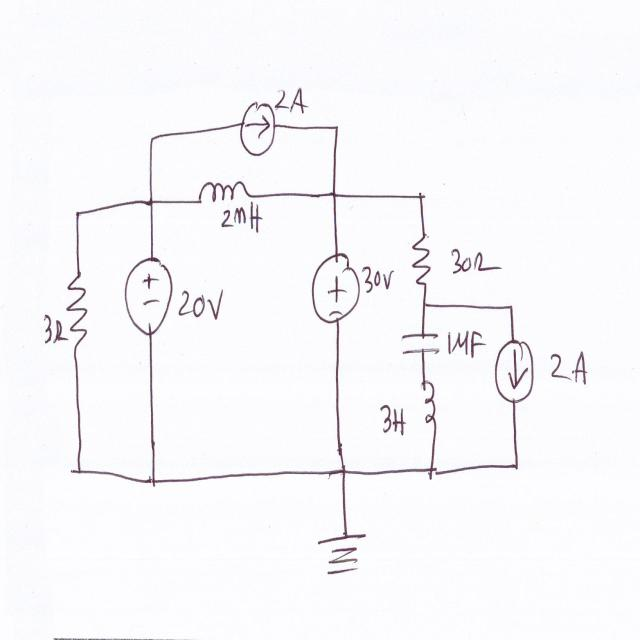capacitor: (397, 325, 441, 361)
current_source: (490, 331, 538, 406), (238, 95, 278, 159)
ground: (310, 525, 370, 581)
inductor: (196, 174, 255, 208), (419, 368, 438, 438)
resistor: (62, 263, 97, 354), (408, 223, 436, 296)
voltage_source: (123, 244, 175, 340), (307, 244, 363, 328)
